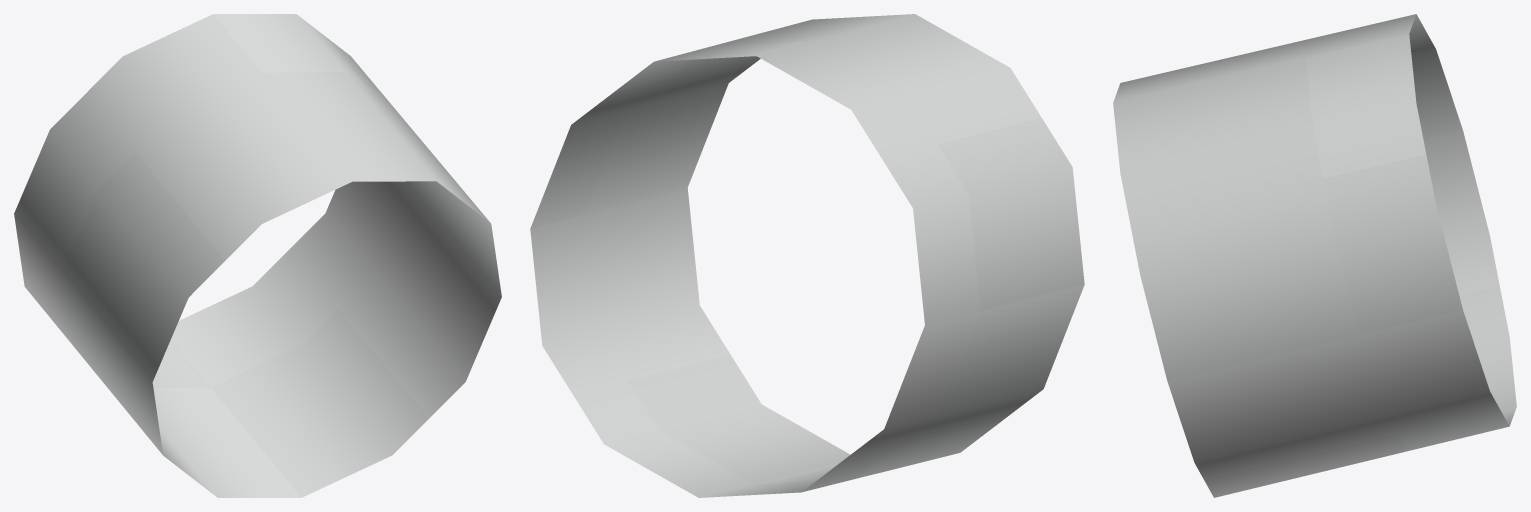
Rendered from luminairearm_caltrans15ftstraightdouble_c1.obj.
The picture shows the model from 3 angles, left to right: view 1: azimuth 30°, elevation 25°; view 2: azimuth 150°, elevation 25°; view 3: azimuth 270°, elevation 25°; orthographic projection. The views are drawn at different scales.
Visible parts, largest first — view 1: luminairearm_caltrans15ftstraightdouble_c1; view 2: luminairearm_caltrans15ftstraightdouble_c1; view 3: luminairearm_caltrans15ftstraightdouble_c1.
Part boxes in pixels (box(x1,y1,x2,y2)): luminairearm_caltrans15ftstraightdouble_c1: box(14, 14, 501, 497); luminairearm_caltrans15ftstraightdouble_c1: box(530, 14, 1084, 497); luminairearm_caltrans15ftstraightdouble_c1: box(1113, 14, 1516, 497).
Size of the model in its own units: 0.2167 by 0.2482 by 0.2046.
